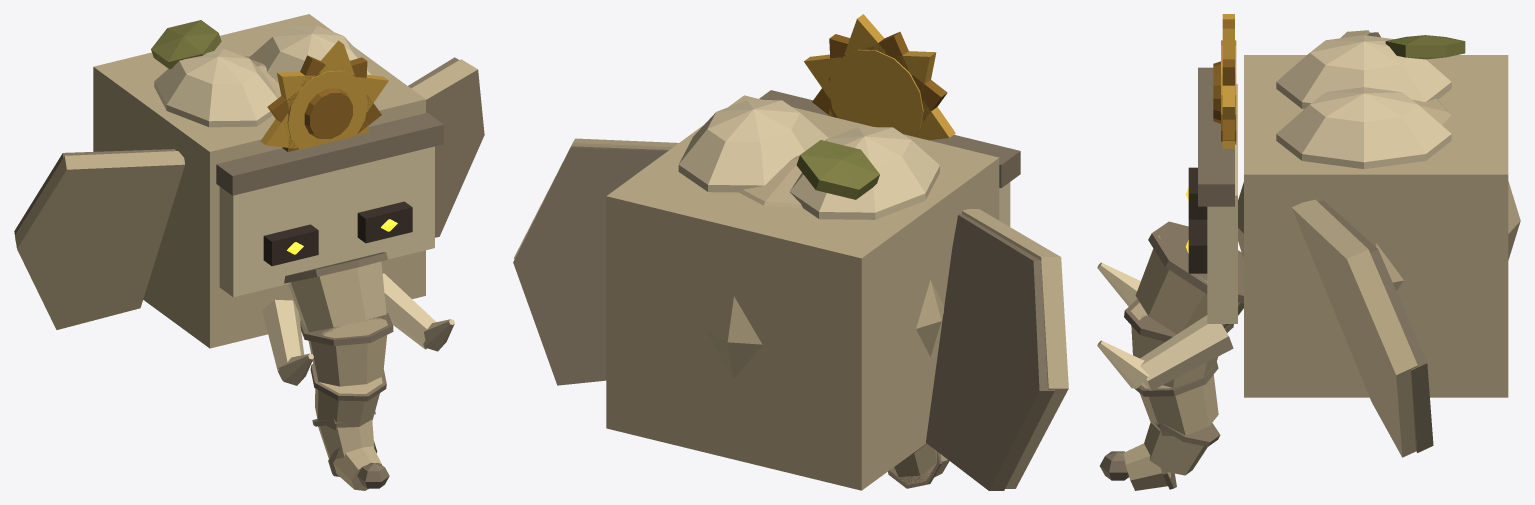
Rendered from stone_guardian_head.glb.
The picture shows the model from 3 angles, left to right: view 1: azimuth 30°, elevation 25°; view 2: azimuth 150°, elevation 25°; view 3: azimuth 270°, elevation 25°; orthographic projection. The views are drawn at different scales.
Parts seen in each view (by area): view 1: stone_guardian_head; view 2: stone_guardian_head; view 3: stone_guardian_head.
Boxes of the visible parts, bbox=[...] form: stone_guardian_head: bbox=[14, 14, 484, 490]; stone_guardian_head: bbox=[513, 14, 1068, 490]; stone_guardian_head: bbox=[1097, 14, 1520, 490].
Bounding box in the file's own units: 1.99 × 1.69 × 1.38.
